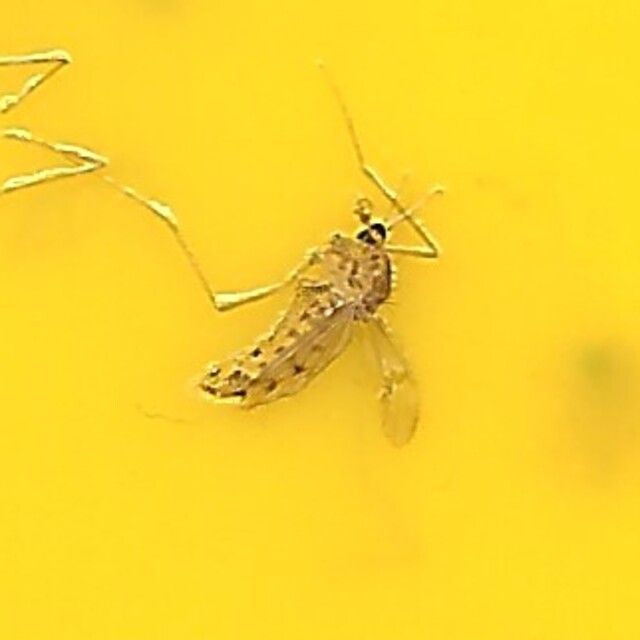Nematocera: (199, 191, 441, 449)
